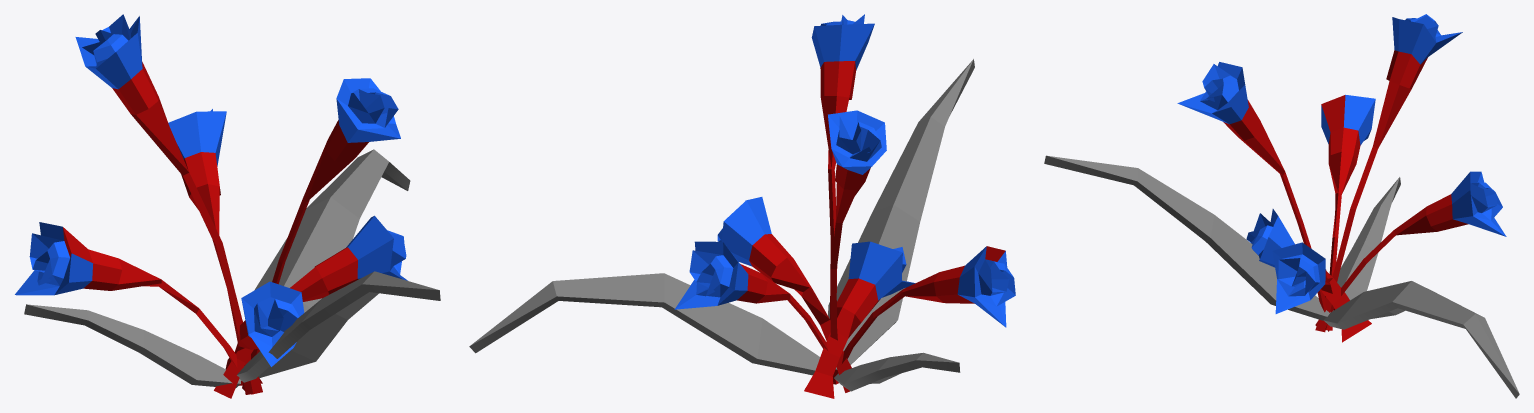
The model's file is PatchNarcissus02.fbx.
3 renders of one model, left to right at view 1: azimuth 30°, elevation 25°; view 2: azimuth 150°, elevation 25°; view 3: azimuth 270°, elevation 25°, orthographic. The views are drawn at different scales.
Visible parts, largest first — view 1: PatchNarcissus02; view 2: PatchNarcissus02; view 3: PatchNarcissus02.
Boxes of the visible parts, x1,y1,x2,y2 form: PatchNarcissus02: [15, 14, 440, 398]; PatchNarcissus02: [469, 14, 1015, 398]; PatchNarcissus02: [1044, 14, 1519, 398].
Size of the model in its own units: 69.86 by 48.37 by 71.45.
